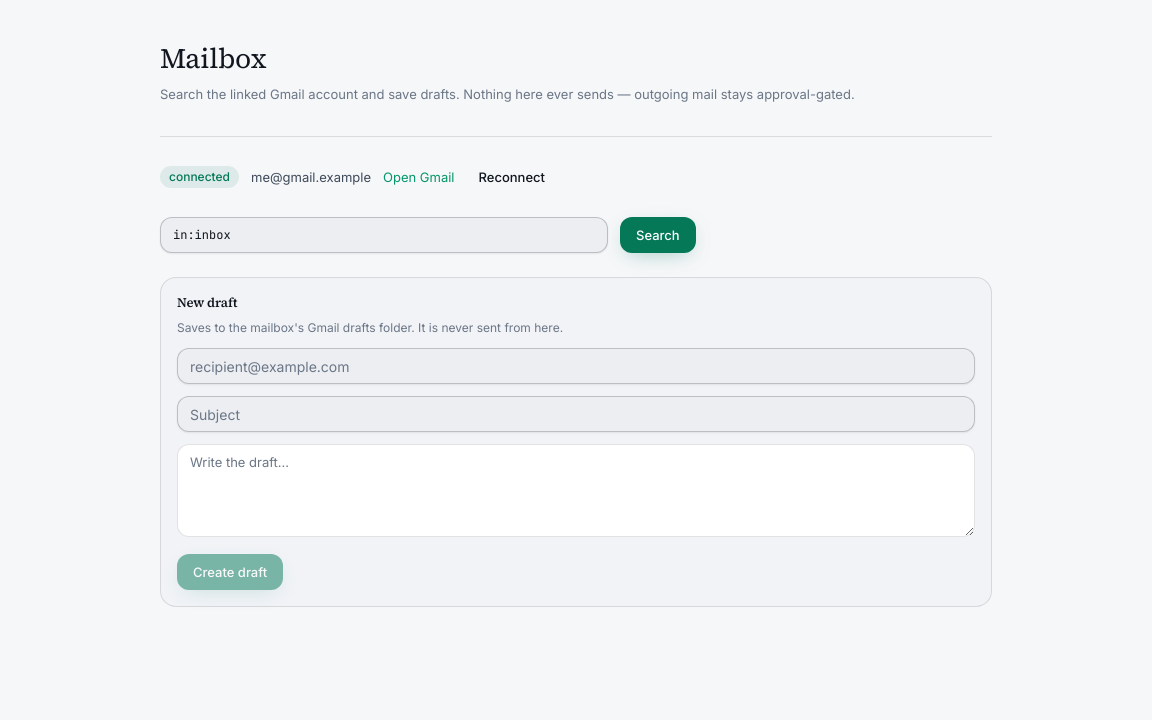
Test: MailPage search › searches the linked mailbox and renders the thread with a Gmail permalink
Expected: the text "me@gmail.example" is shown, [251,168,371,186]
Expected: the text "Invoice" is not shown
Click the button "Search" at [658, 235], box [620,217,696,253]
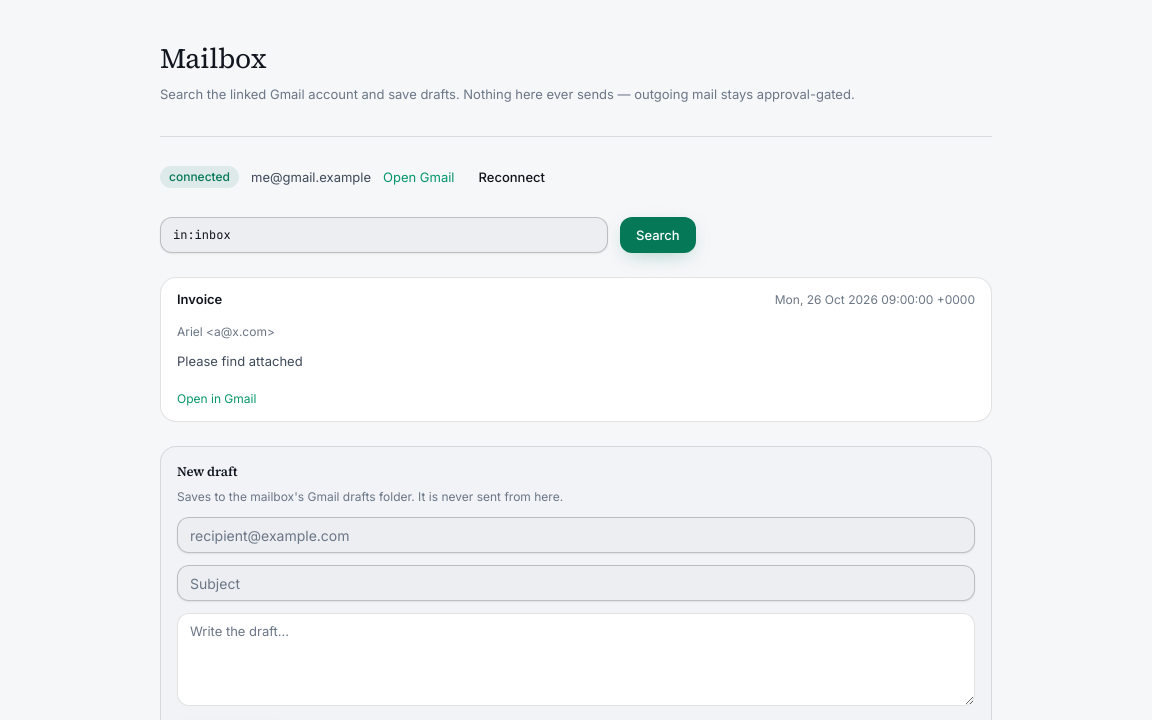
Now the text "Invoice" is shown, box [177,290,222,308]
Now the text "Please find attached" is shown, box [177,354,303,370]
